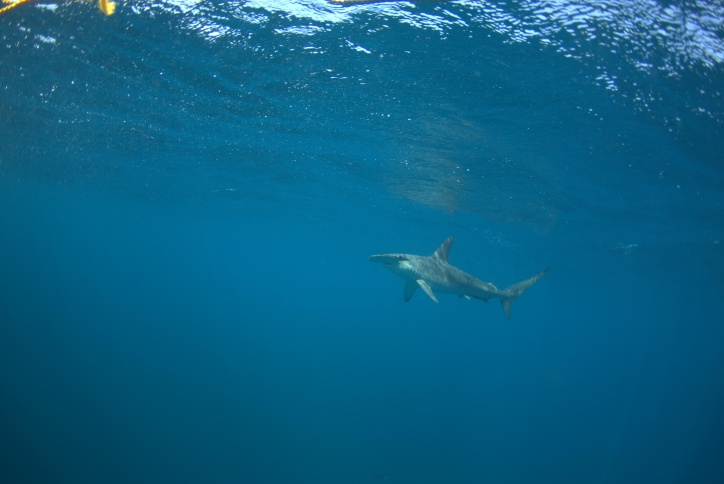Hammer: (377, 232, 560, 340)
